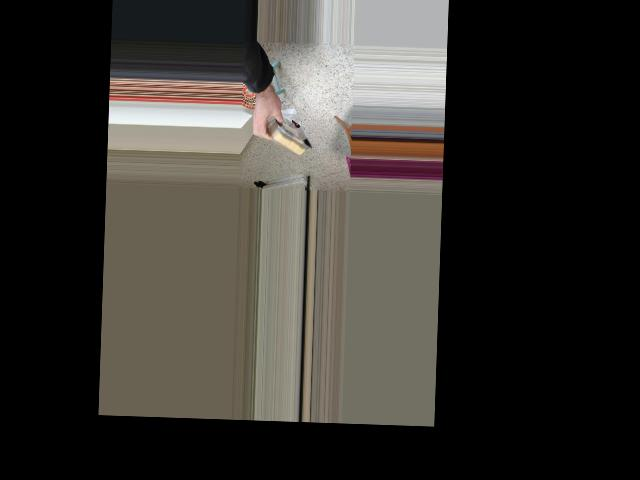cheese: (244, 102, 322, 165)
